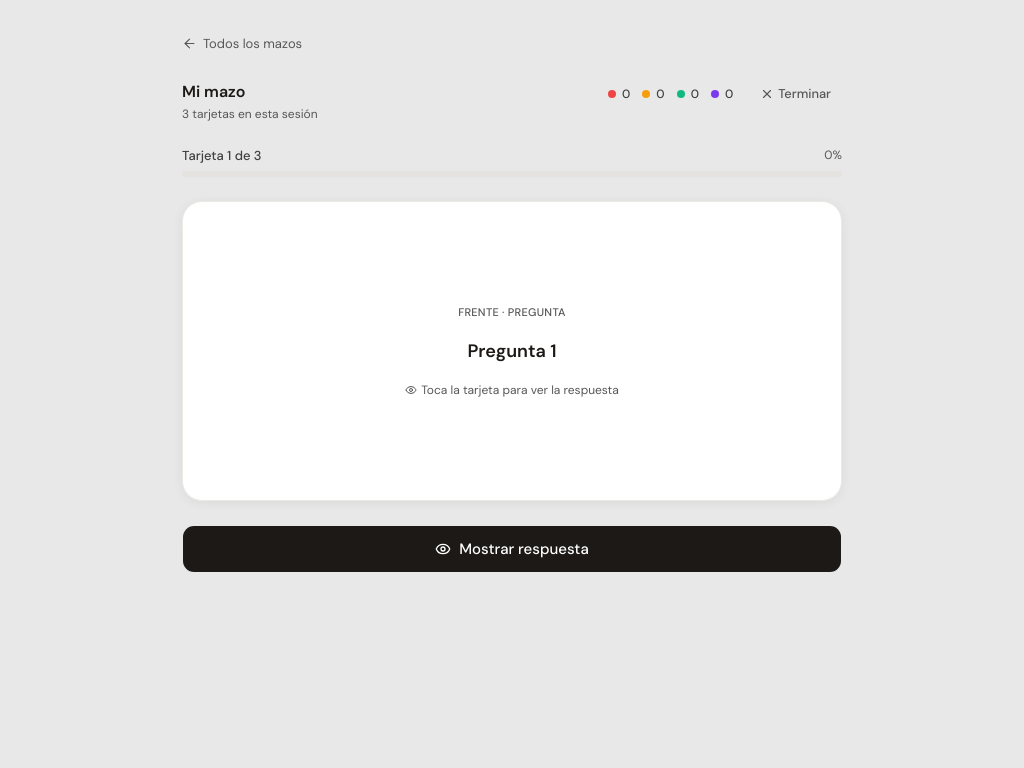
Test case: FlashcardPlayer › shows the end-of-session summary after rating the last card
Click the button with test id "flip-card" at (512,351), box [182, 201, 842, 501]
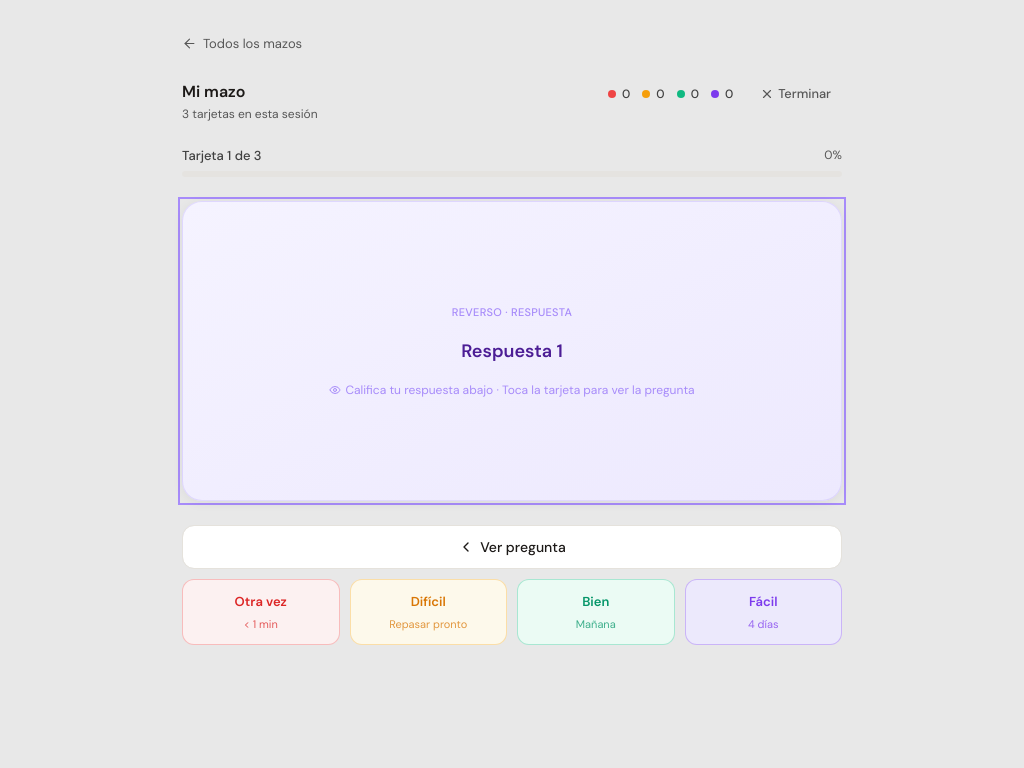
Click the button with test id "rate-good" at (596,612), box [517, 579, 674, 645]
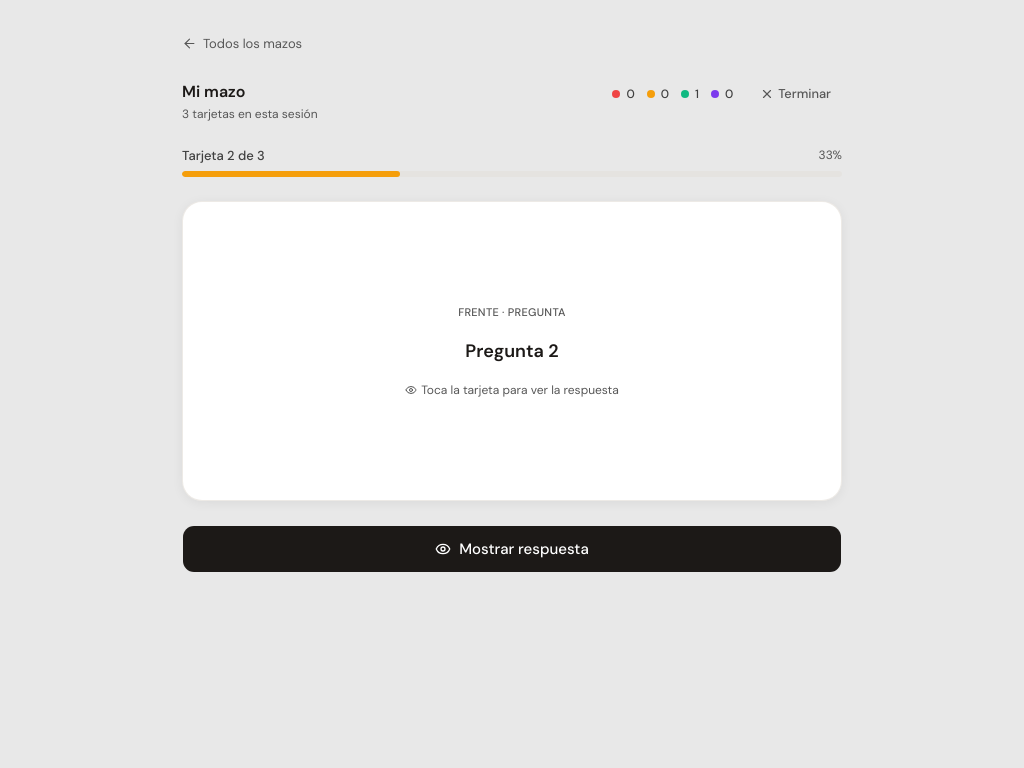
Click the button with test id "flip-card" at (512,351), box [182, 201, 842, 501]
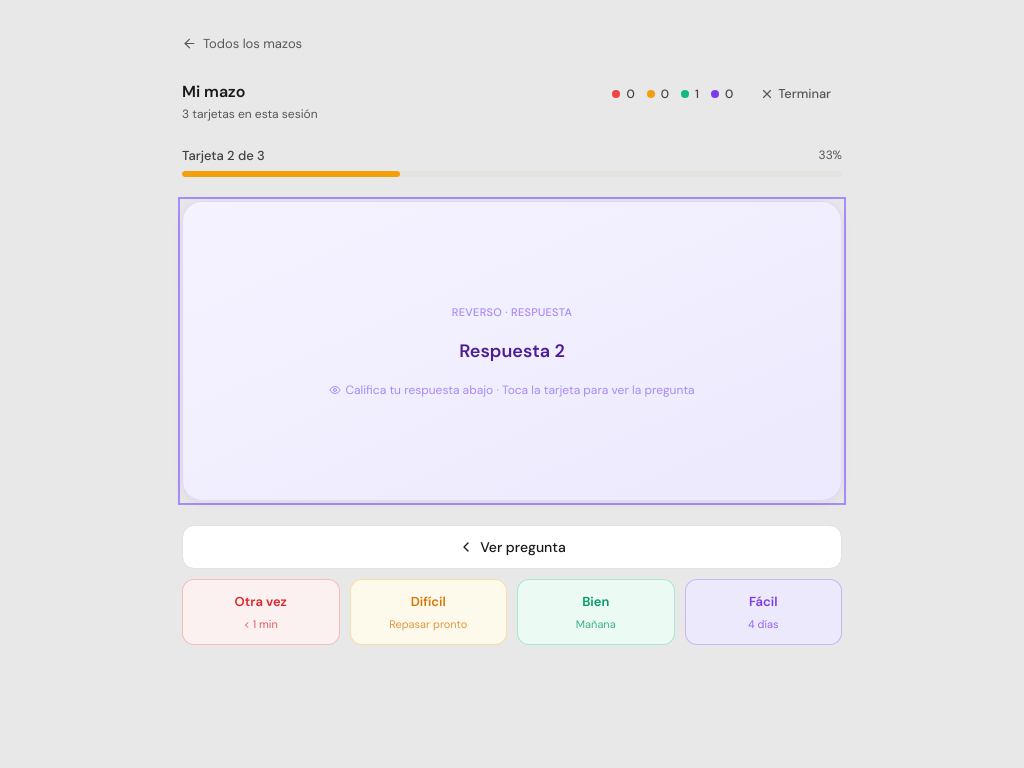
Click the button with test id "rate-good" at (596,612), box [517, 579, 674, 645]
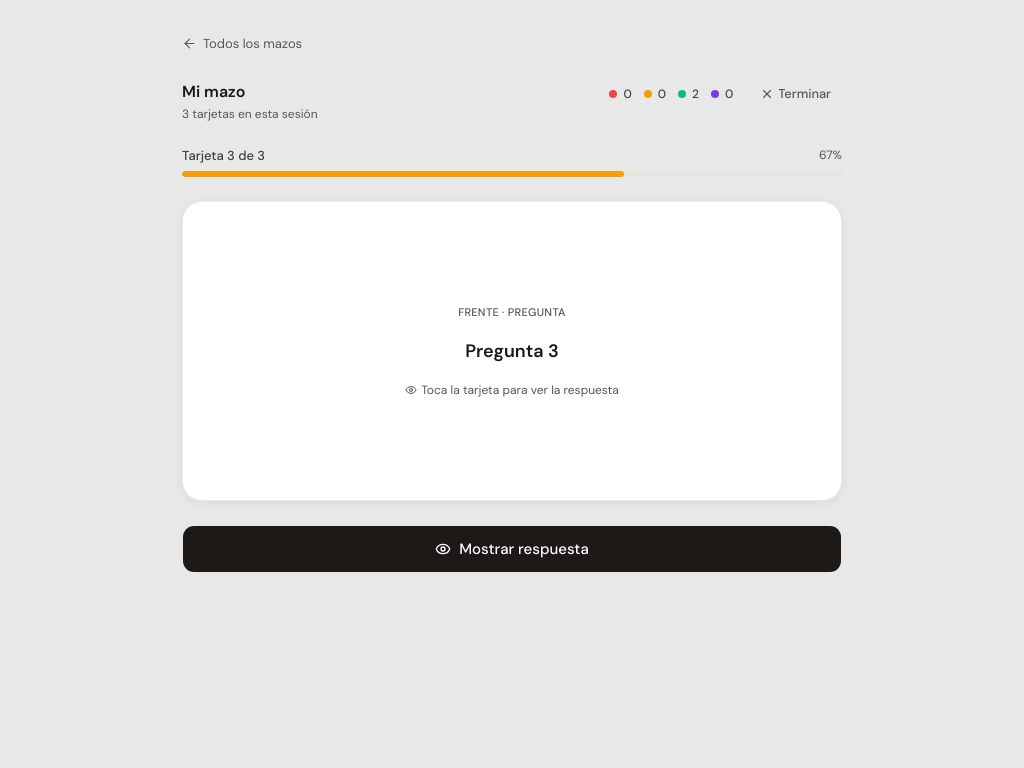
Click the button with test id "flip-card" at (512,351), box [182, 201, 842, 501]
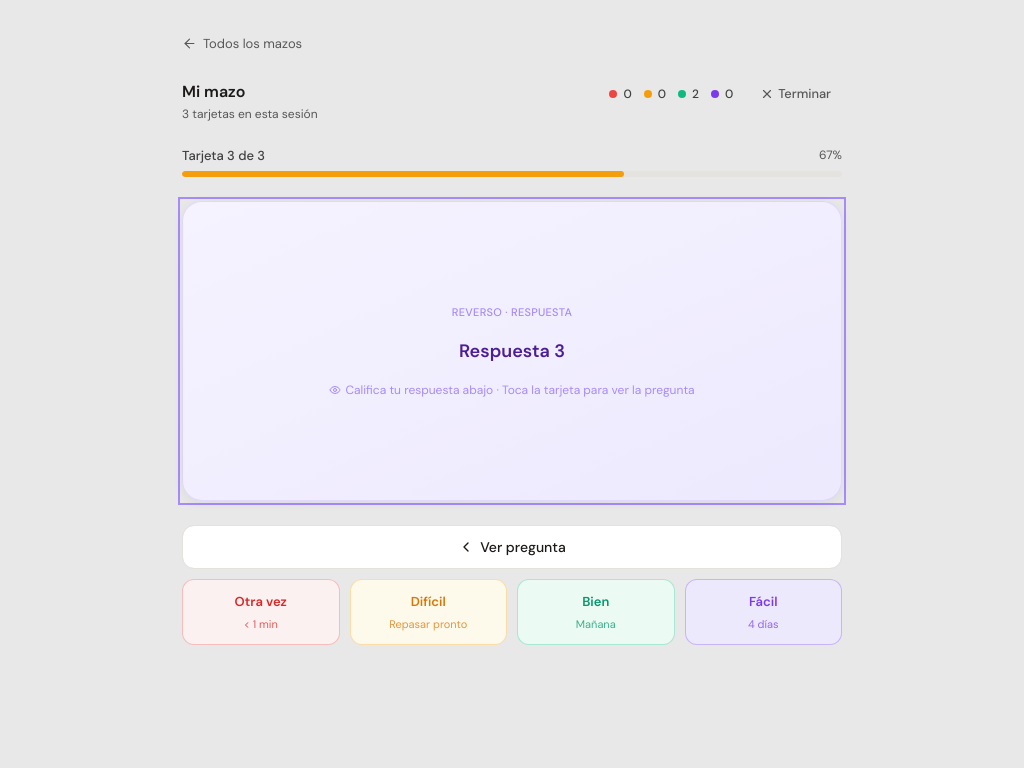
Click the button with test id "rate-easy" at (763,612), box [684, 579, 842, 645]
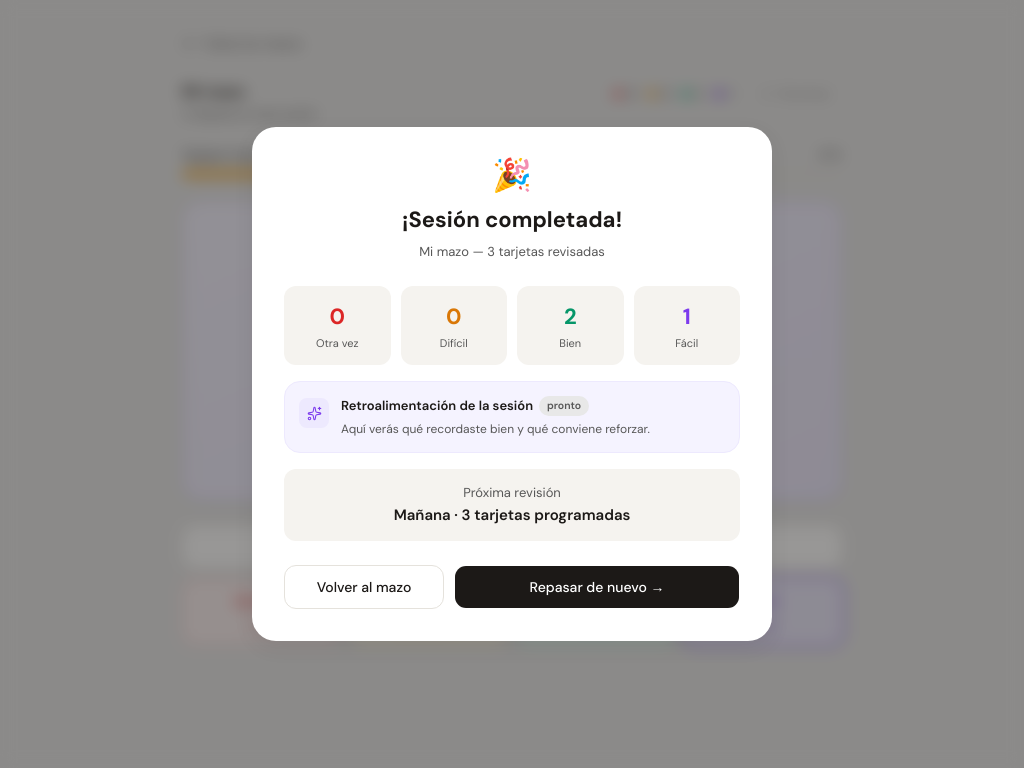
Expected: the dialog "Sesión completada" shows "Mi mazo — 3 tarjetas revisadas", [419, 243, 605, 260]
